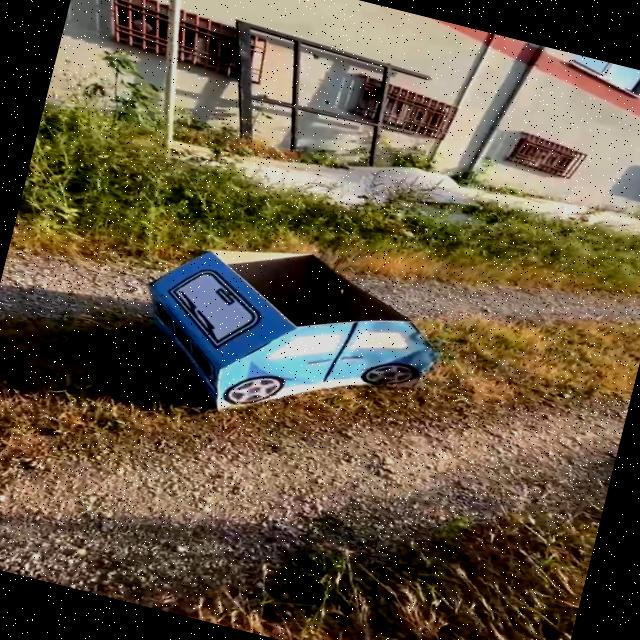blue_car: (77, 178, 498, 520)
